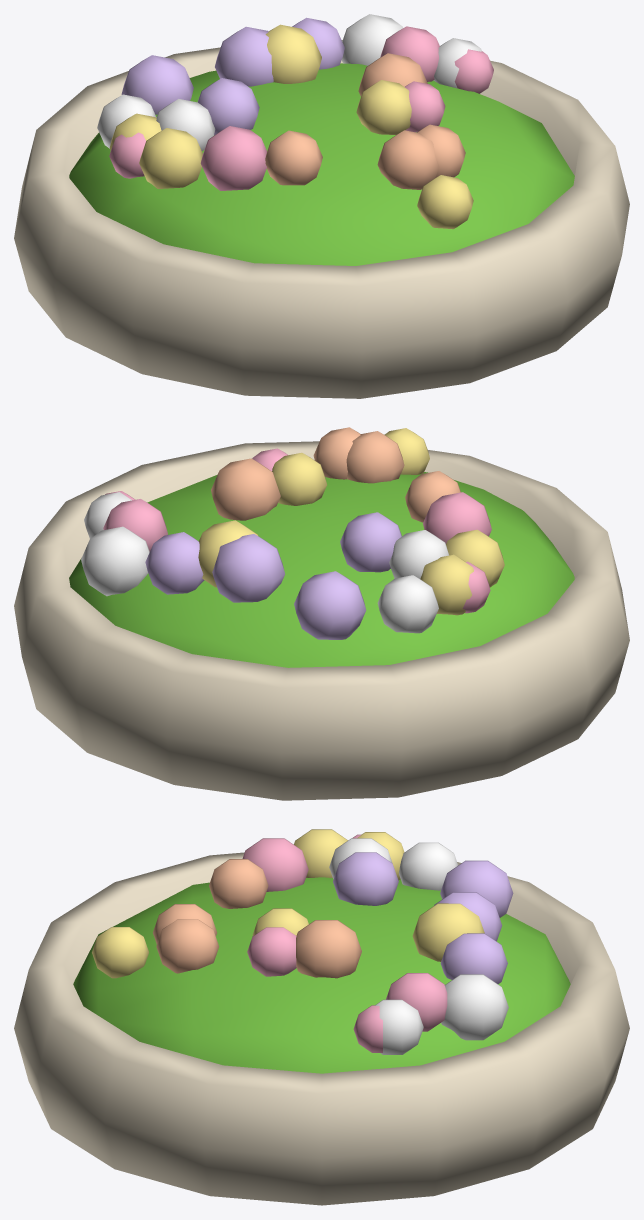
The model's file is flower_bed.glb.
The picture shows the model from 3 angles, top to bottom: view 1: azimuth 30°, elevation 25°; view 2: azimuth 150°, elevation 25°; view 3: azimuth 270°, elevation 25°; orthographic projection.
Parts seen in each view (by area): view 1: Flower_Bed_Planter, Flower_Bed_Soil, Flower_Bed_Flowers; view 2: Flower_Bed_Planter, Flower_Bed_Flowers, Flower_Bed_Soil; view 3: Flower_Bed_Planter, Flower_Bed_Soil, Flower_Bed_Flowers.
Part boxes in pixels (x1,y1,x2,y2): Flower_Bed_Planter: [14, 40, 629, 398]; Flower_Bed_Soil: [69, 63, 574, 265]; Flower_Bed_Flowers: [97, 14, 493, 229]; Flower_Bed_Planter: [14, 441, 629, 800]; Flower_Bed_Flowers: [81, 427, 504, 639]; Flower_Bed_Soil: [69, 472, 574, 667]; Flower_Bed_Planter: [14, 852, 629, 1205]; Flower_Bed_Soil: [73, 877, 570, 1073]; Flower_Bed_Flowers: [92, 829, 513, 1054].
Size of the model in its own units: 2.1 by 0.7384 by 2.1.
